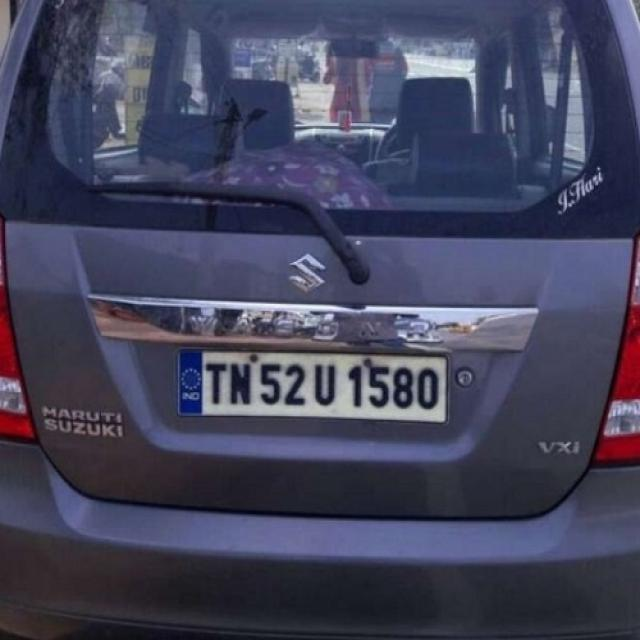number_plate: (201, 352, 447, 414)
